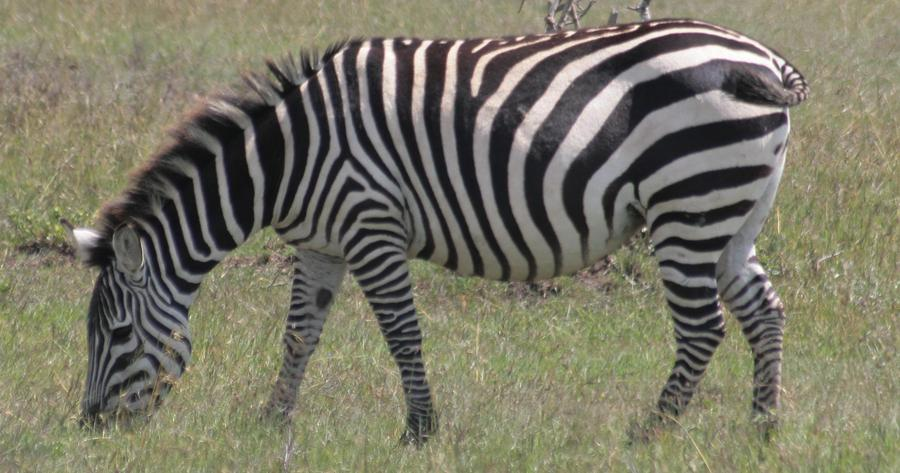zebra_plains: (282, 29, 781, 265)
